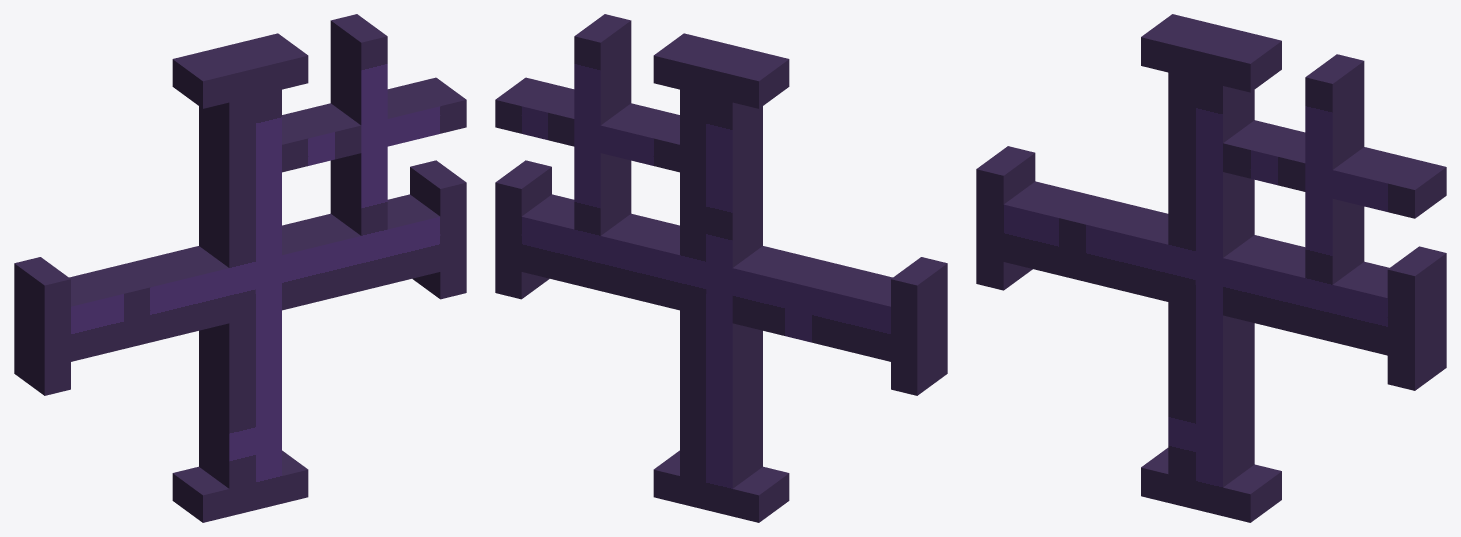
The model's file is zu_window_barsao.fezao.glb.
3 renders of one model, left to right at view 1: azimuth 30°, elevation 25°; view 2: azimuth 150°, elevation 25°; view 3: azimuth 330°, elevation 25°, orthographic. The views are drawn at different scales.
Parts seen in each view (by area): view 1: ZU_WINDOW_BARSAO; view 2: ZU_WINDOW_BARSAO; view 3: ZU_WINDOW_BARSAO.
Part boxes in pixels (x1=…): ZU_WINDOW_BARSAO: x1=14, y1=14, x2=466, y2=522; ZU_WINDOW_BARSAO: x1=495, y1=14, x2=947, y2=522; ZU_WINDOW_BARSAO: x1=976, y1=14, x2=1446, y2=522.
Size of the model in its own units: 1 by 1 by 0.125.
Materials: 1 (1 with a texture image).
